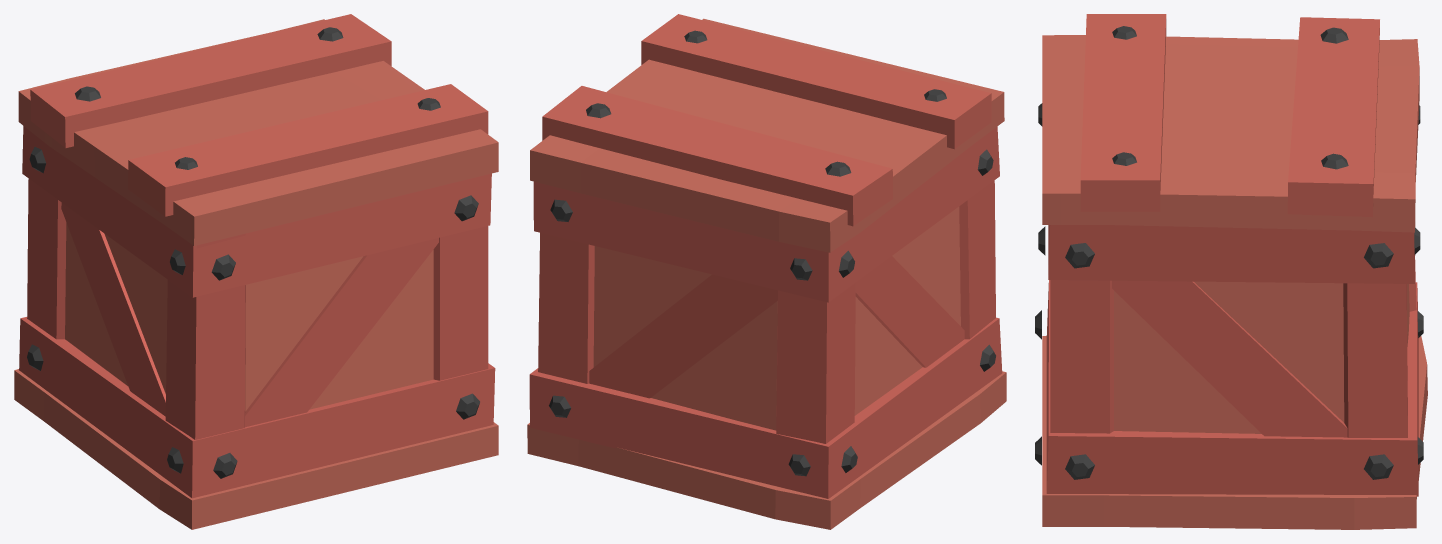
3 renders of one model, left to right at view 1: azimuth 30°, elevation 25°; view 2: azimuth 150°, elevation 25°; view 3: azimuth 270°, elevation 25°, orthographic. The views are drawn at different scales.
Visible parts, largest first — view 1: Item21; view 2: Item21; view 3: Item21.
Boxes of the visible parts, bbox=[...] form: Item21: bbox=[14, 14, 498, 529]; Item21: bbox=[527, 14, 1006, 529]; Item21: bbox=[1035, 14, 1427, 529].
Size of the model in its own units: 50.21 by 49.82 by 49.96.
